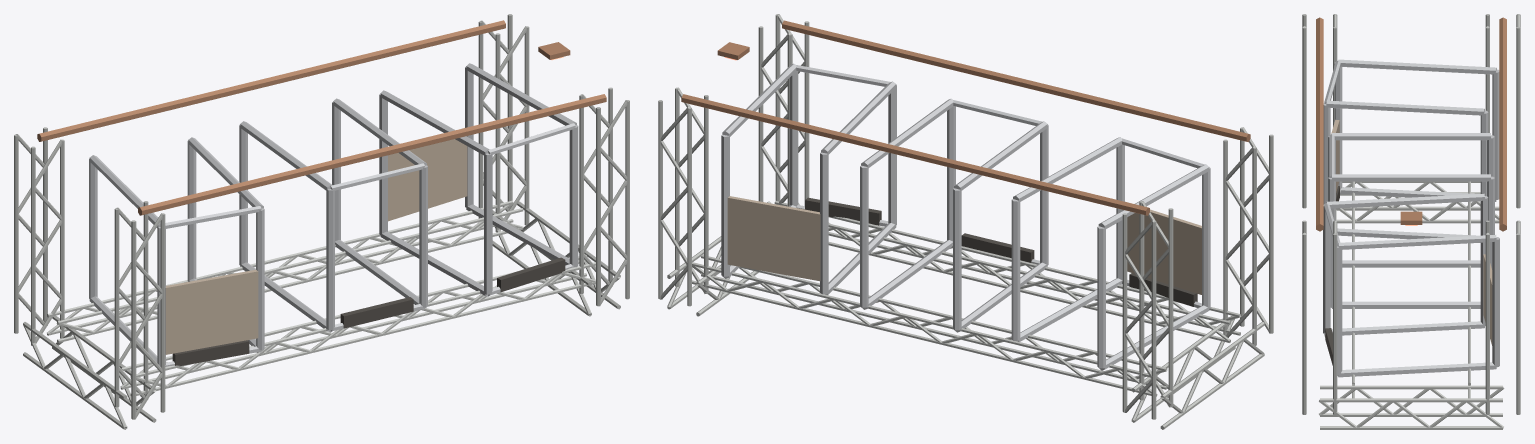
The model's file is hull_rack.glb.
3 renders of one model, left to right at view 1: azimuth 30°, elevation 25°; view 2: azimuth 150°, elevation 25°; view 3: azimuth 270°, elevation 25°, orthographic. The views are drawn at different scales.
Visible parts, largest first — view 1: bed_s, s0_skin, bed_p, end_a_s, end_f_s, end_a_p, end_f_p, s2_skin, spine_s, spine_p, s2_rib_b, s2_rib_a (+12 smaller); view 2: bed_p, s2_skin, bed_s, end_a_p, end_a_s, end_f_p, spine_p, spine_s, end_f_s, s0_rib_b, s0_rib_a, s1_rib_a (+11 smaller); view 3: frame_f, s2_rib_b, s2_rib_a, s0_rib_a, s1_rib_b, s0_rib_b, s1_rib_a, frame_a, end_f_p, end_f_s, spine_p, spine_s (+9 smaller).
Boxes of the visible parts, left/top/right/bottom form: bed_s: left=120, top=254, right=595, bottom=395; s0_skin: left=165, top=269, right=258, bottom=354; bed_p: left=47, top=200, right=523, bottom=342; end_a_s: left=114, top=201, right=165, bottom=419; end_f_s: left=579, top=87, right=629, bottom=306; end_a_p: left=14, top=127, right=64, bottom=345; end_f_p: left=478, top=14, right=529, bottom=232; s2_skin: left=388, top=128, right=467, bottom=221; spine_s: left=138, top=94, right=606, bottom=215; spine_p: left=37, top=20, right=505, bottom=141; s2_rib_b: left=465, top=63, right=578, bottom=267; s2_rib_a: left=379, top=90, right=492, bottom=296; bed_p: left=692, top=254, right=1167, bottom=396; s2_skin: left=727, top=196, right=820, bottom=281; bed_s: left=774, top=201, right=1240, bottom=342; end_a_p: left=1122, top=201, right=1173, bottom=419; end_a_s: left=1223, top=127, right=1273, bottom=345; end_f_p: left=658, top=87, right=708, bottom=306; spine_p: left=681, top=94, right=1149, bottom=215; spine_s: left=782, top=20, right=1250, bottom=142; end_f_s: left=758, top=14, right=809, bottom=206; s0_rib_b: left=1011, top=137, right=1124, bottom=341; s0_rib_a: left=1097, top=164, right=1210, bottom=370; s1_rib_a: left=953, top=121, right=1048, bottom=332; frame_f: left=1319, top=385, right=1504, bottom=429; s2_rib_b: left=1337, top=235, right=1499, bottom=377; s2_rib_a: left=1323, top=193, right=1488, bottom=335; s0_rib_a: left=1334, top=59, right=1499, bottom=201; s1_rib_b: left=1328, top=174, right=1494, bottom=308; s0_rib_b: left=1323, top=100, right=1488, bottom=242; s1_rib_a: left=1328, top=133, right=1494, bottom=267; frame_a: left=1336, top=181, right=1499, bottom=223; end_f_p: left=1485, top=220, right=1520, bottom=414; end_f_s: left=1302, top=220, right=1337, bottom=414; spine_p: left=1499, top=17, right=1506, bottom=231; spine_s: left=1316, top=17, right=1323, bottom=231.
Size of the model in its own units: 17.12 by 7.48 by 7.14.
